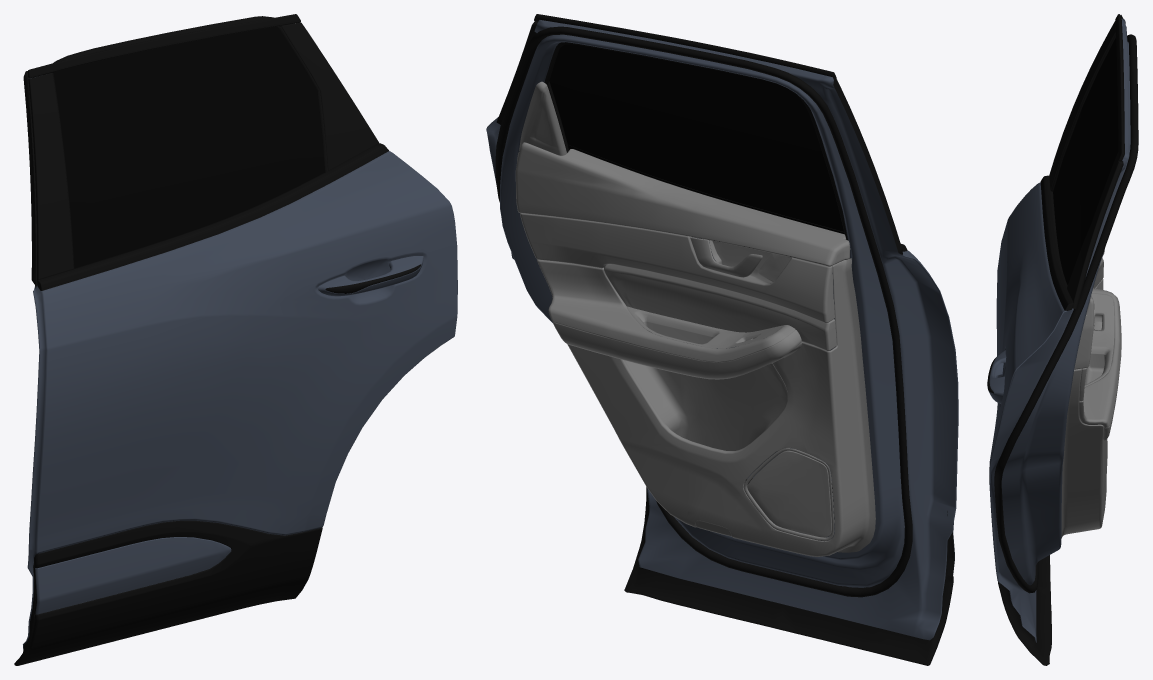
File: Door_back_L_control.fbx
3 renders of one model, left to right at view 1: azimuth 30°, elevation 25°; view 2: azimuth 150°, elevation 25°; view 3: azimuth 270°, elevation 25°, orthographic. The views are drawn at different scales.
Parts seen in each view (by area): view 1: CarPaint_door_back, Door_back_L_WindowGlass_control, Door_back_other; view 2: Door_Interior_back, CarPaint_door_back, Door_back_L_WindowGlass_control, Door_back_other; view 3: CarPaint_door_back, Door_back_other, Door_Interior_back, Door_back_L_WindowGlass_control.
Boxes of the visible parts, x1=… form: CarPaint_door_back: x1=23, y1=77, x2=457, y2=648; Door_back_L_WindowGlass_control: x1=53, y1=26, x2=325, y2=268; Door_back_other: x1=14, y1=14, x2=420, y2=665; Door_Interior_back: x1=515, y1=81, x2=875, y2=556; CarPaint_door_back: x1=486, y1=20, x2=958, y2=640; Door_back_L_WindowGlass_control: x1=549, y1=44, x2=844, y2=234; Door_back_other: x1=495, y1=14, x2=954, y2=665; CarPaint_door_back: x1=988, y1=18, x2=1130, y2=642; Door_back_other: x1=987, y1=14, x2=1138, y2=665; Door_Interior_back: x1=1061, y1=250, x2=1121, y2=538; Door_back_L_WindowGlass_control: x1=1053, y1=38, x2=1118, y2=285.
Bounding box in the file's own units: 104 × 130 × 32.84.
